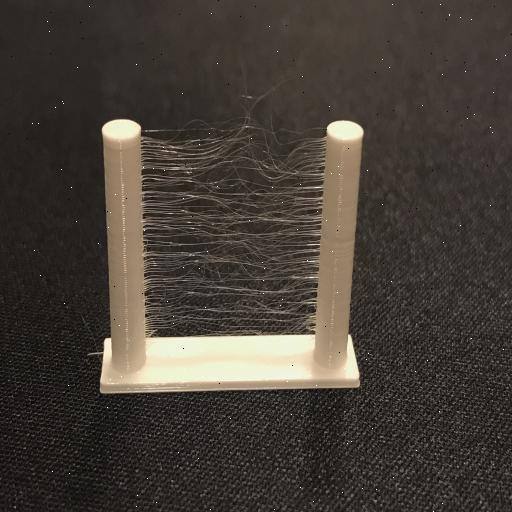stringing: (142, 128, 324, 368)
